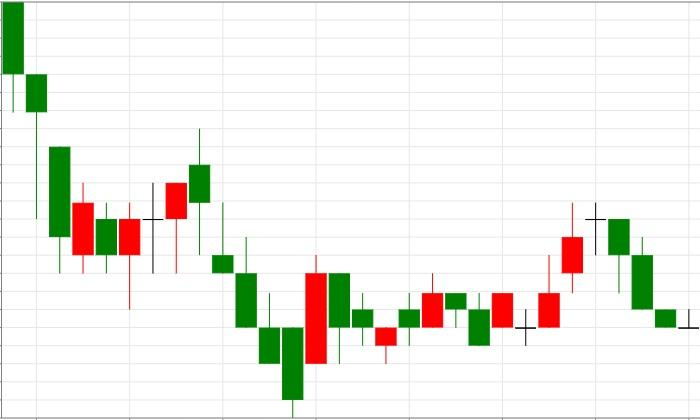bullish_engulfing_rise: (3, 1, 141, 310)
evening_star_fall: (514, 202, 629, 345)
three_black_crows_fall: (119, 129, 258, 327), (515, 201, 676, 345)
